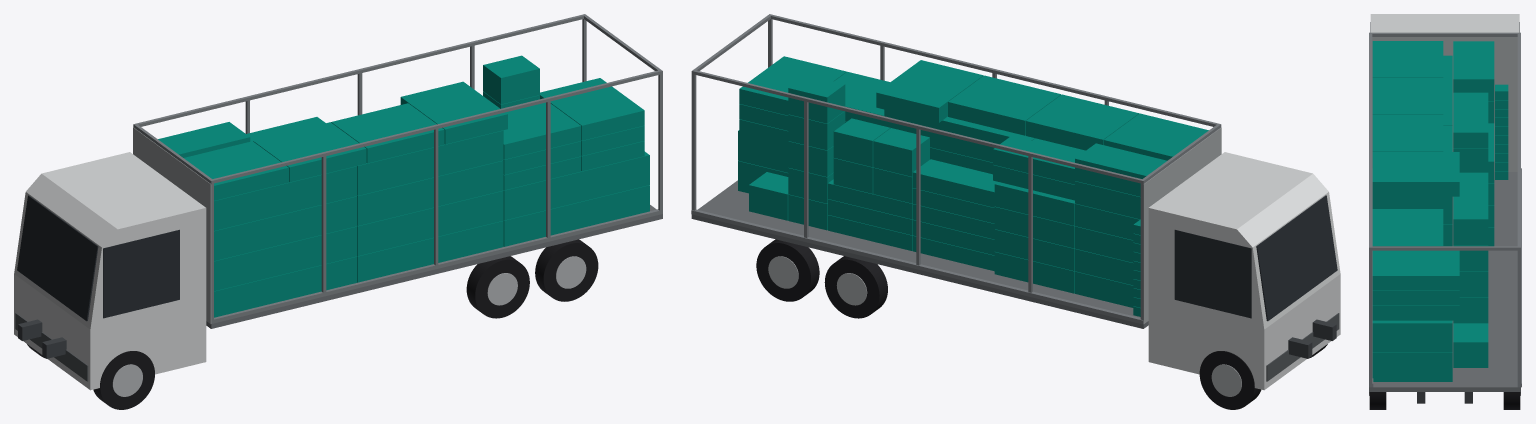
The model's file is truck-BL03.glb.
3 views of the same model, side by side, from view 1: azimuth 30°, elevation 25°; view 2: azimuth 150°, elevation 25°; view 3: azimuth 270°, elevation 25° (orthographic). The views are drawn at different scales.
Visible parts, largest first — view 1: cabine, part23, janela, part46, part42, part44, part43, part39, part40, part38, part45, part41 (+30 smaller); view 2: cabine, piso, part23, janela, part49, part50, part48, part17, frente, part47, part44, part62 (+49 smaller); view 3: piso, part50, part56, frente, cabine, part53, part46, part47, part48, part49, part45, part62 (+29 smaller).
Part boxes in pixels (<box>): cabine: <box>14,152,206,390</box>; part23: <box>17,195,98,321</box>; janela: <box>103,229,179,318</box>; part46: <box>503,151,649,220</box>; part42: <box>357,190,503,255</box>; part44: <box>357,130,503,195</box>; part43: <box>357,160,503,225</box>; part39: <box>214,196,357,260</box>; part40: <box>214,166,357,230</box>; part38: <box>214,226,357,291</box>; part45: <box>503,185,649,246</box>; part41: <box>357,221,503,282</box>; cabine: <box>1148,152,1340,390</box>; piso: <box>691,180,1148,328</box>; part23: <box>1256,195,1337,321</box>; janela: <box>1174,229,1251,318</box>; part49: <box>948,75,1061,135</box>; part50: <box>876,60,983,122</box>; part48: <box>1026,94,1139,150</box>; part17: <box>691,209,1143,324</box>; frente: <box>1143,127,1221,323</box>; part47: <box>1103,113,1208,160</box>; part44: <box>884,109,1034,162</box>; part62: <box>1075,143,1166,196</box>; piso: <box>1369,172,1520,391</box>; part50: <box>1372,152,1459,196</box>; part56: <box>1372,250,1459,290</box>; frente: <box>1372,37,1517,171</box>; cabine: <box>1370,14,1519,32</box>; part53: <box>1372,209,1443,246</box>; part46: <box>1372,320,1452,352</box>; part47: <box>1372,41,1443,77</box>; part48: <box>1372,78,1443,114</box>; part49: <box>1372,115,1443,151</box>; part45: <box>1372,352,1452,381</box>; part62: <box>1453,41,1494,100</box>.
Bounding box in the file's own units: 11.24 × 3.78 × 2.58.
